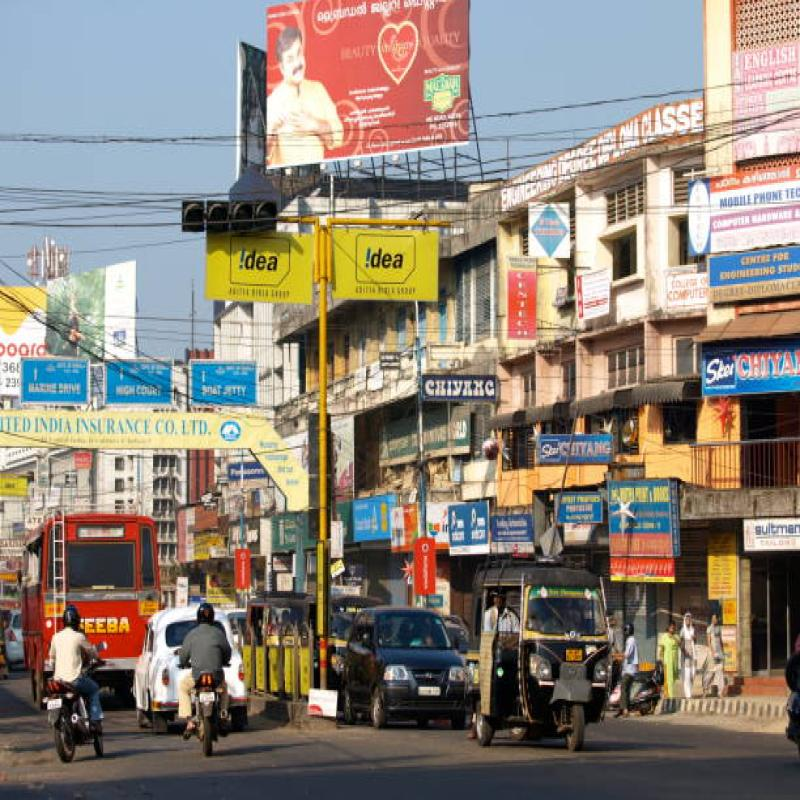auto: (466, 551, 656, 746)
bike: (31, 657, 117, 758)
car: (346, 606, 469, 734)
